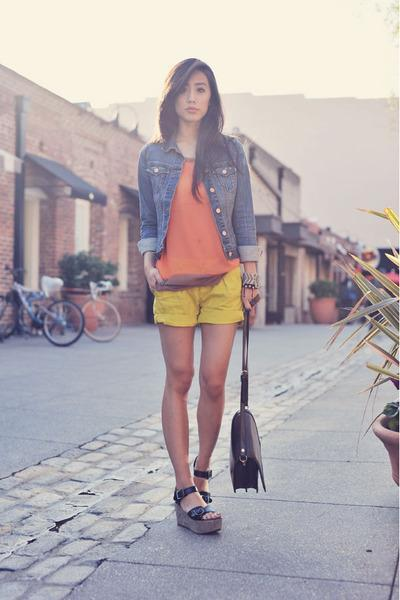bag: (230, 396, 265, 491)
jacket: (128, 135, 266, 267)
shirt: (162, 168, 227, 275)
shoe: (175, 506, 221, 541)
shorts: (153, 260, 243, 326)
